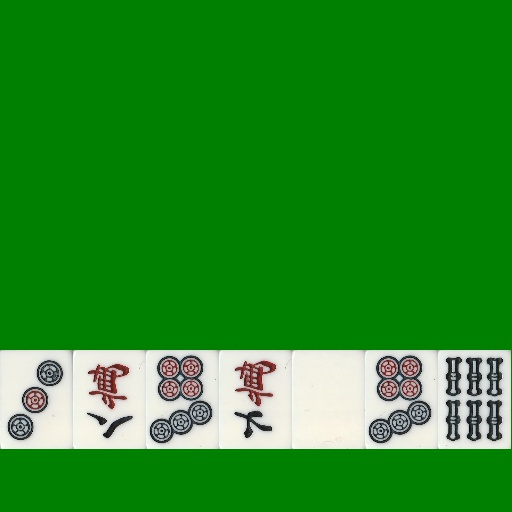3p: (0, 350, 73, 449)
6s: (438, 350, 511, 449)
7m: (219, 350, 292, 449)
7p: (146, 350, 219, 449), (365, 350, 438, 449)
8m: (73, 350, 146, 449)
white: (292, 350, 365, 449)
